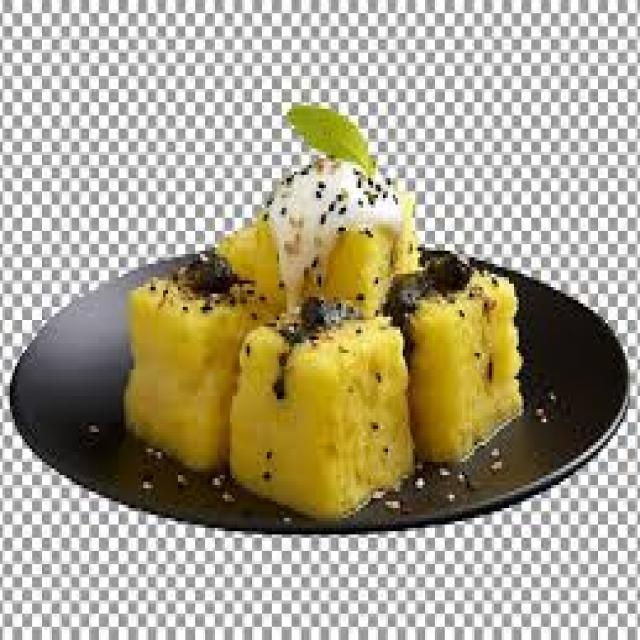DHOKLA: (123, 158, 529, 517)
